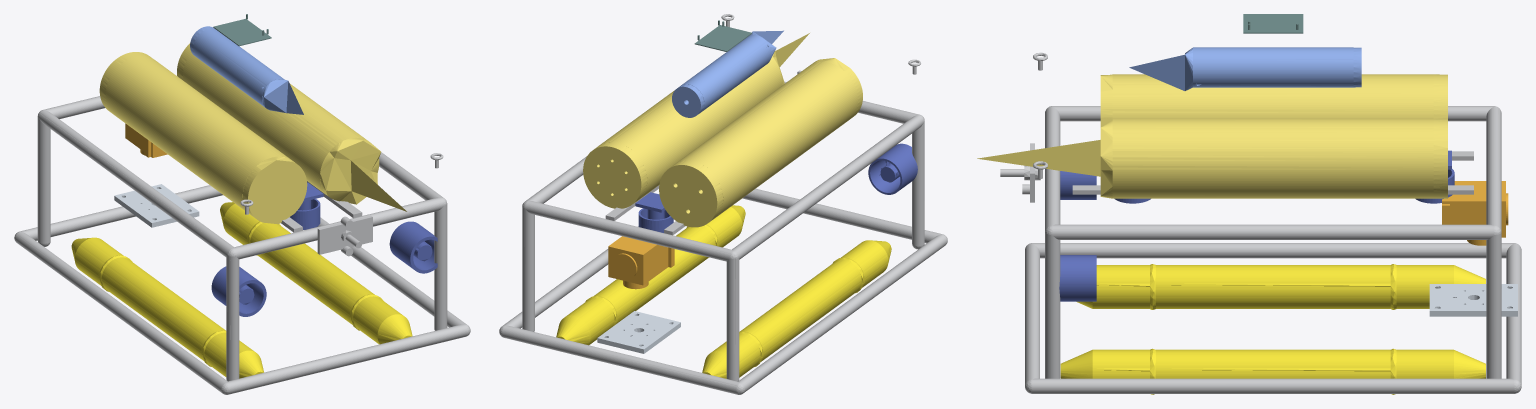
The model's file is mangustik.glb.
3 views of the same model, side by side, from view 1: azimuth 30°, elevation 25°; view 2: azimuth 150°, elevation 25°; view 3: azimuth 270°, elevation 25° (orthographic). The views are drawn at different scales.
Visible parts, largest first — view 1: 00_01_main_chassis_frame, 02_03_main_pressure_hull_starboard, 01_02_main_pressure_hull_port, 10_07_buoyancy_and_ballast_system, 09_07_buoyancy_and_ballast_system, 03_04_auxiliary_sensor_tubes_top, 13_10_tether_rigging_and_protection_bars, 05_05_propulsion_horizontal_module, 12_09_manipulator_and_tool_interface, 06_05_propulsion_horizontal_module, 04_11_central_control_pdb_module, 08_06_propulsion_vertical_module (+1 smaller); view 2: 00_01_main_chassis_frame, 02_03_main_pressure_hull_starboard, 01_02_main_pressure_hull_port, 10_07_buoyancy_and_ballast_system, 09_07_buoyancy_and_ballast_system, 03_04_auxiliary_sensor_tubes_top, 11_08_sensor_and_camera_skid_front, 12_09_manipulator_and_tool_interface, 06_05_propulsion_horizontal_module, 07_06_propulsion_vertical_module, 04_11_central_control_pdb_module; view 3: 00_01_main_chassis_frame, 01_02_main_pressure_hull_port, 10_07_buoyancy_and_ballast_system, 02_03_main_pressure_hull_starboard, 09_07_buoyancy_and_ballast_system, 03_04_auxiliary_sensor_tubes_top, 12_09_manipulator_and_tool_interface, 11_08_sensor_and_camera_skid_front, 05_05_propulsion_horizontal_module, 04_11_central_control_pdb_module, 13_10_tether_rigging_and_protection_bars, 06_05_propulsion_horizontal_module.
Part boxes in pixels (x1,y1,x2,y2): 00_01_main_chassis_frame: (14,96,470,394); 02_03_main_pressure_hull_starboard: (99,52,307,224); 01_02_main_pressure_hull_port: (177,43,406,211); 10_07_buoyancy_and_ballast_system: (71,237,263,378); 09_07_buoyancy_and_ballast_system: (220,202,412,344); 03_04_auxiliary_sensor_tubes_top: (190,26,303,114); 13_10_tether_rigging_and_protection_bars: (240,153,443,256); 05_05_propulsion_horizontal_module: (389,221,437,273); 12_09_manipulator_and_tool_interface: (114,184,199,227); 06_05_propulsion_horizontal_module: (211,266,266,316); 04_11_central_control_pdb_module: (213,14,271,46); 08_06_propulsion_vertical_module: (290,182,323,229); 00_01_main_chassis_frame: (499,81,947,394); 02_03_main_pressure_hull_starboard: (659,58,862,227); 01_02_main_pressure_hull_port: (583,33,809,208); 10_07_buoyancy_and_ballast_system: (702,240,891,378); 09_07_buoyancy_and_ballast_system: (556,205,745,345); 03_04_auxiliary_sensor_tubes_top: (672,30,783,117); 11_08_sensor_and_camera_skid_front: (608,236,674,289); 12_09_manipulator_and_tool_interface: (597,311,680,353); 06_05_propulsion_horizontal_module: (868,143,917,194); 07_06_propulsion_vertical_module: (635,192,673,232); 04_11_central_control_pdb_module: (694,20,752,51); 00_01_main_chassis_frame: (1025,106,1521,393); 01_02_main_pressure_hull_port: (977,118,1447,198); 10_07_buoyancy_and_ballast_system: (1076,264,1485,309); 02_03_main_pressure_hull_starboard: (1100,74,1447,118); 09_07_buoyancy_and_ballast_system: (1060,348,1485,394); 03_04_auxiliary_sensor_tubes_top: (1129,47,1361,90); 12_09_manipulator_and_tool_interface: (1429,284,1517,316); 11_08_sensor_and_camera_skid_front: (1442,181,1508,245); 05_05_propulsion_horizontal_module: (1059,255,1096,301); 04_11_central_control_pdb_module: (1243,14,1303,33); 13_10_tether_rigging_and_protection_bars: (1000,52,1047,202); 06_05_propulsion_horizontal_module: (1060,171,1096,199).
Size of the model in its own units: 0.838 by 0.9212 by 1.36.
